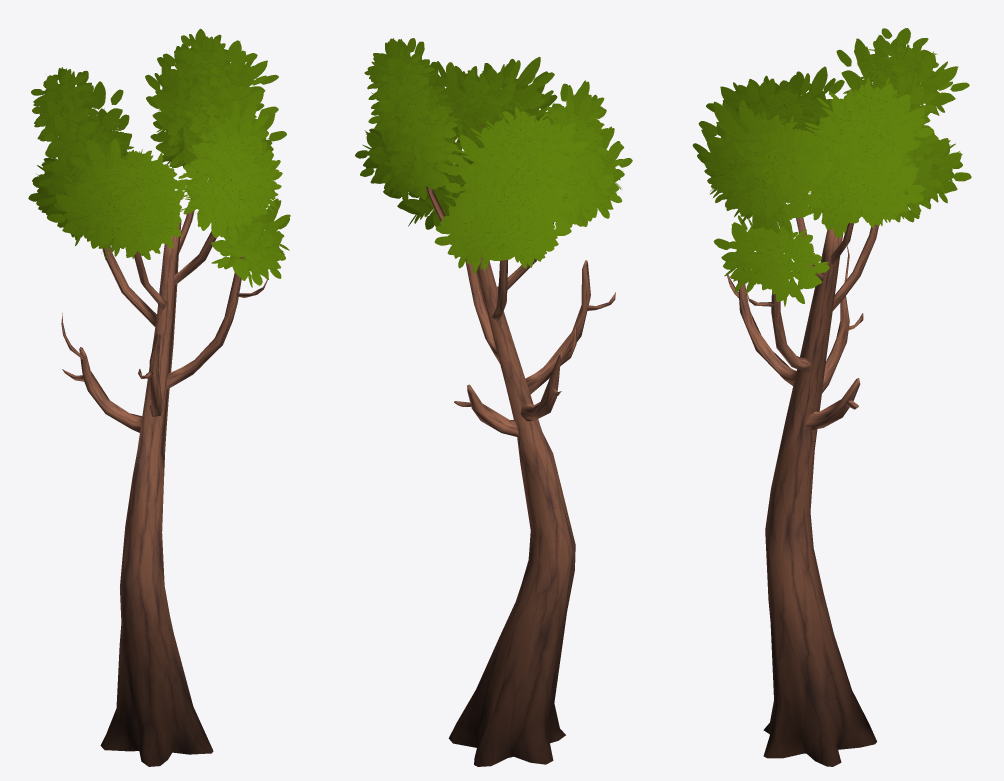
File: CommonTree_4_s.gltf
3 renders of one model, left to right at view 1: azimuth 30°, elevation 25°; view 2: azimuth 150°, elevation 25°; view 3: azimuth 270°, elevation 25°, orthographic. The views are drawn at different scales.
Parts seen in each view (by area): view 1: CommonTree_4; view 2: CommonTree_4; view 3: CommonTree_4.
Boxes of the visible parts, left/top/right/bottom form: CommonTree_4: left=28, top=28, right=290, bottom=766; CommonTree_4: left=355, top=38, right=632, bottom=766; CommonTree_4: left=692, top=28, right=971, bottom=766.
Bounding box in the file's own units: 3.83 × 9.44 × 3.76.
Materials: 2 (2 with a texture image).
